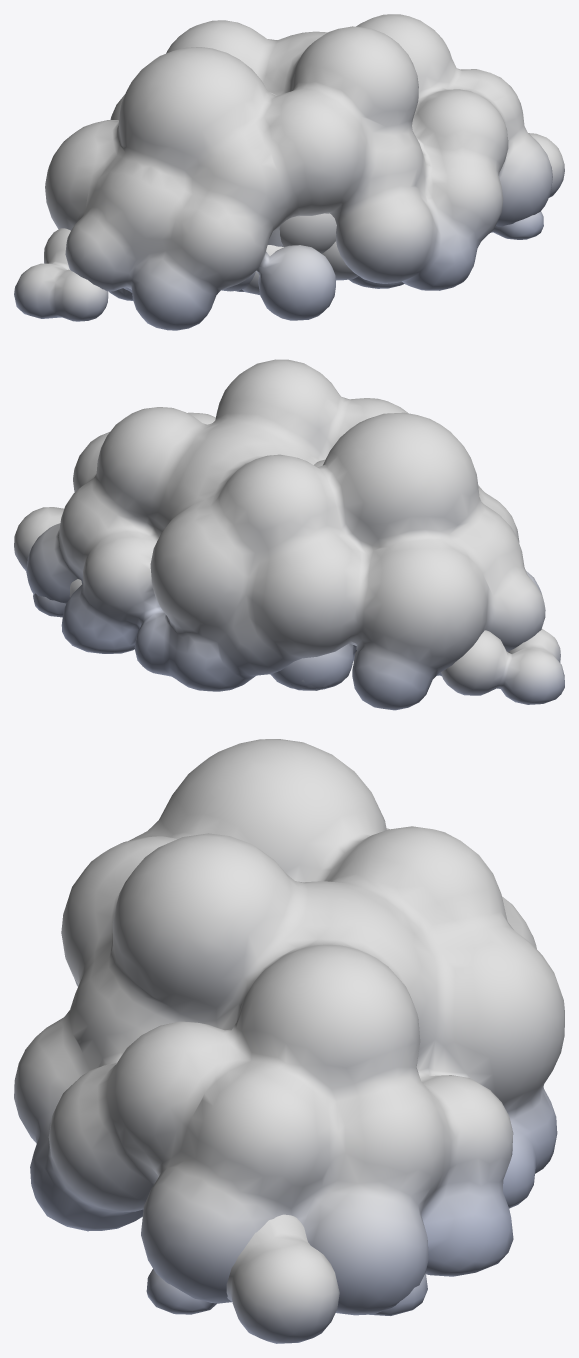
The model's file is Clouds.glb.
3 renders of one model, top to bottom at view 1: azimuth 30°, elevation 25°; view 2: azimuth 150°, elevation 25°; view 3: azimuth 270°, elevation 25°, orthographic. The views are drawn at different scales.
Parts seen in each view (by area): view 1: Cloud_Big, Cloud_Long, Cloud_Cumulus; view 2: Cloud_Big, Cloud_Long, Cloud_Cumulus; view 3: Cloud_Big, Cloud_Long.
Part boxes in pixels (x1=…): Cloud_Big: x1=45, y1=14, x2=552, y2=330; Cloud_Long: x1=14, y1=133, x2=564, y2=321; Cloud_Cumulus: x1=221, y1=92, x2=404, y2=291; Cloud_Big: x1=26, y1=359, x2=545, y2=710; Cloud_Long: x1=14, y1=507, x2=564, y2=704; Cloud_Cumulus: x1=270, y1=459, x2=356, y2=690; Cloud_Big: x1=14, y1=739, x2=564, y2=1315; Cloud_Long: x1=146, y1=1214, x2=427, y2=1343.
Bounding box in the file's own units: 31.21 × 12.95 × 18.6.
